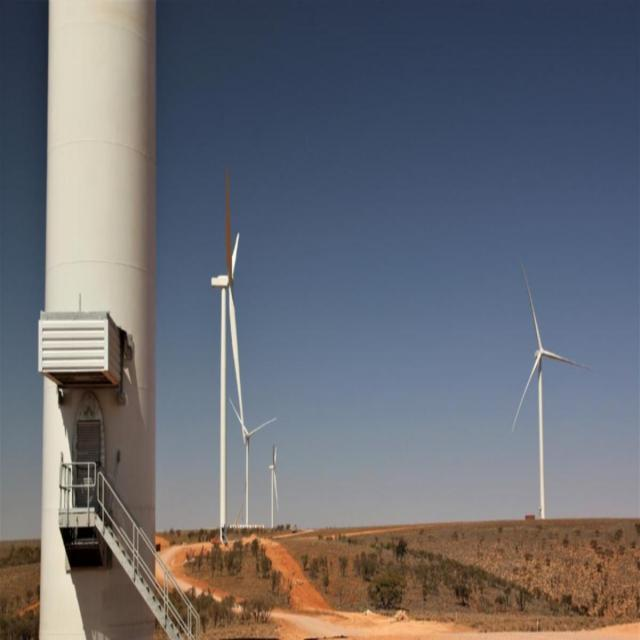wind-turbine: (511, 265, 589, 519)
